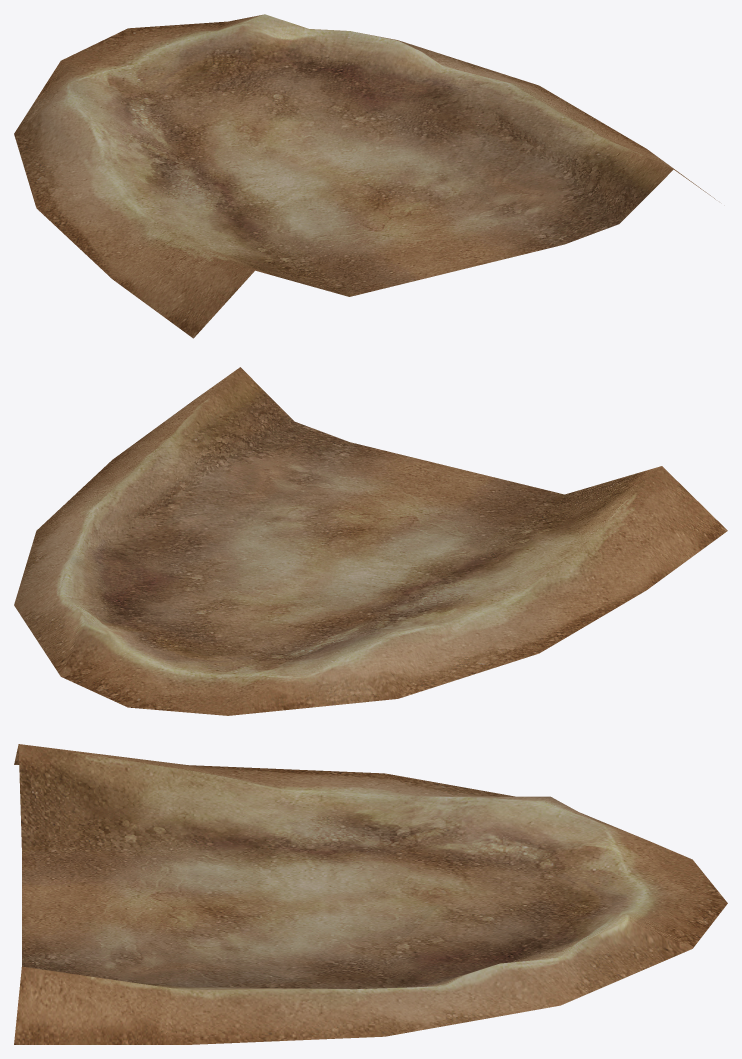
Rendered from tx_fxdm001.FBX.
3 renders of one model, top to bottom at view 1: azimuth 30°, elevation 25°; view 2: azimuth 150°, elevation 25°; view 3: azimuth 270°, elevation 25°, orthographic. The views are drawn at different scales.
Visible parts, largest first — view 1: tx_fxdm001; view 2: tx_fxdm001; view 3: tx_fxdm001.
Boxes of the visible parts, box(x1,y1,x2,y2) form: tx_fxdm001: box(14, 14, 715, 338); tx_fxdm001: box(14, 367, 727, 715); tx_fxdm001: box(14, 744, 727, 1044).
Size of the model in its own units: 51.55 by 4.71 by 55.59.
